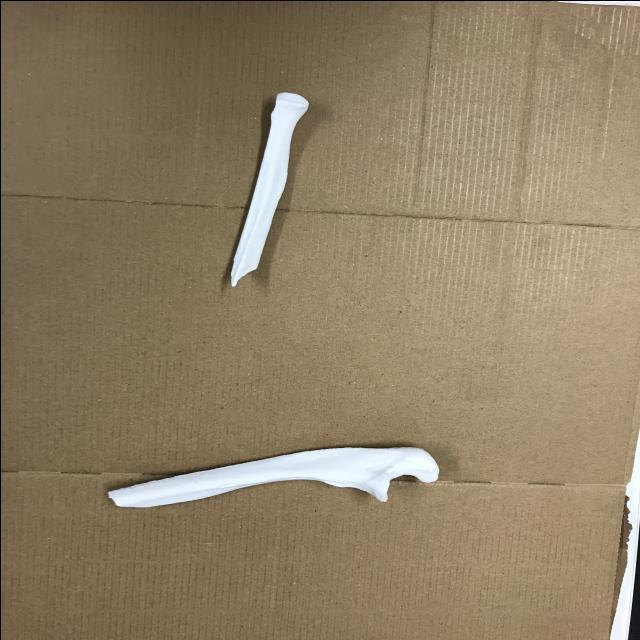bone: (106, 443, 446, 516), (222, 88, 316, 286)
